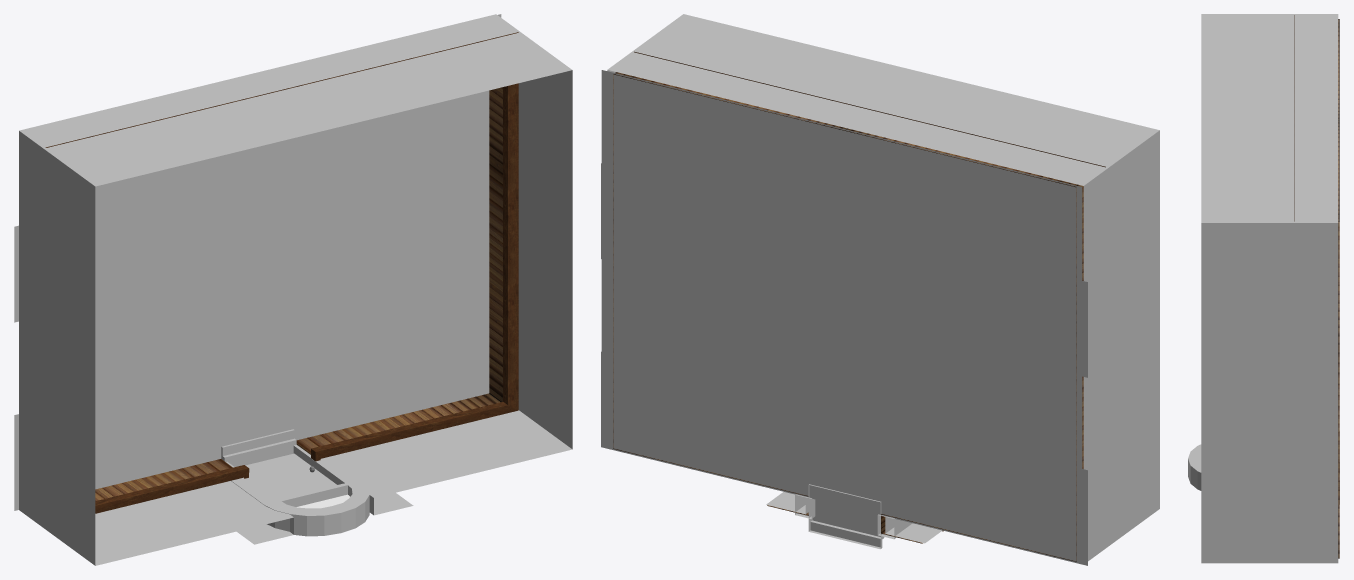
The model's file is Room_Large 1.fbx.
The picture shows the model from 3 angles, left to right: view 1: azimuth 30°, elevation 25°; view 2: azimuth 150°, elevation 25°; view 3: azimuth 270°, elevation 25°; orthographic projection. The views are drawn at different scales.
Visible parts, largest first — view 1: Floor, Box001, woodenWall, room_Large, Box002, Box001_1; view 2: Floor, Box001, room_Large, woodenWall, Box002; view 3: Box001, woodenWall, Box002.
Boxes of the visible parts, box(x1,y1,x2,y2) form: Floor: box(14, 14, 501, 464); Box001: box(19, 14, 572, 565); woodenWall: box(45, 32, 518, 513); room_Large: box(14, 370, 197, 510); Box002: box(221, 429, 369, 536); Box001_1: box(245, 453, 336, 499); Floor: box(601, 70, 1087, 520); Box001: box(607, 14, 1159, 561); room_Large: box(904, 425, 1087, 565); woodenWall: box(613, 51, 1105, 561); Box002: box(795, 484, 912, 549); Box001: box(1201, 14, 1338, 563); woodenWall: box(1294, 15, 1339, 558); Box002: box(1188, 431, 1339, 504).
Bounding box in the file's own units: 3088 × 2501 × 928.
